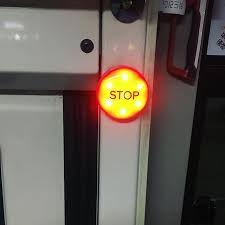bell: (94, 64, 155, 125)
